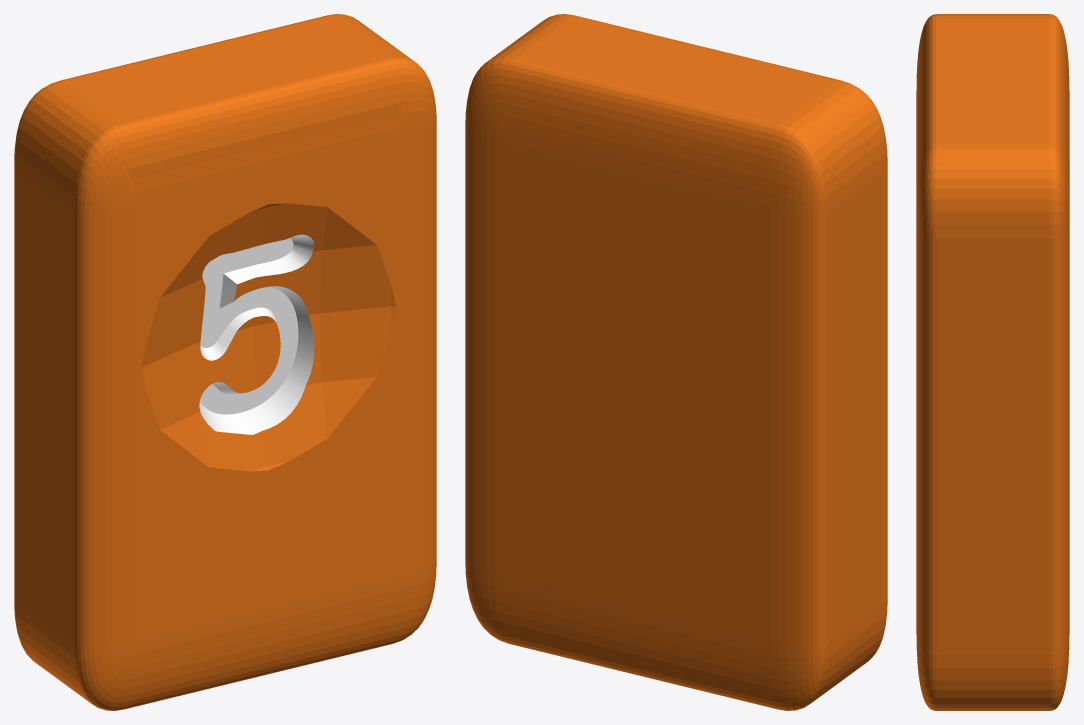
File: Rummikub Card 5.FBX
The picture shows the model from 3 angles, left to right: view 1: azimuth 30°, elevation 25°; view 2: azimuth 150°, elevation 25°; view 3: azimuth 270°, elevation 25°; orthographic projection. The views are drawn at different scales.
Visible parts, largest first — view 1: CardModel; view 2: CardModel; view 3: CardModel.
Part boxes in pixels (<box>): CardModel: <box>14,14,436,710</box>; CardModel: <box>465,14,887,710</box>; CardModel: <box>916,14,1069,710</box>.
Bounding box in the file's own units: 44.87 × 69.66 × 17.19.
